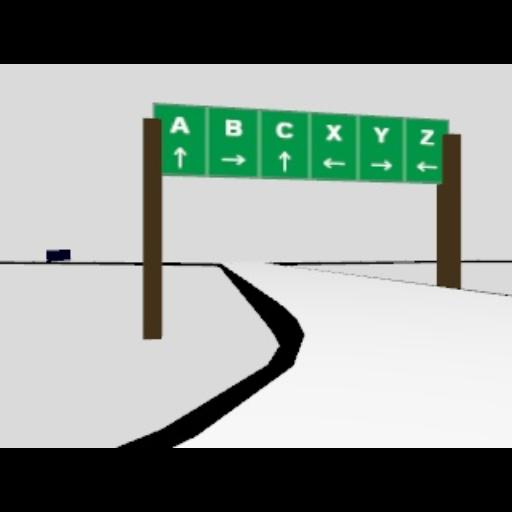A: (170, 115, 188, 133)
B: (224, 118, 242, 136)
C: (276, 120, 294, 140)
Left: (321, 156, 347, 168), (416, 160, 438, 172)
Right: (370, 158, 392, 170), (221, 154, 247, 164)
Straight: (172, 146, 186, 168), (277, 150, 291, 172)
X: (325, 123, 343, 141)
Y: (373, 125, 389, 143)
Z: (419, 128, 435, 144)
